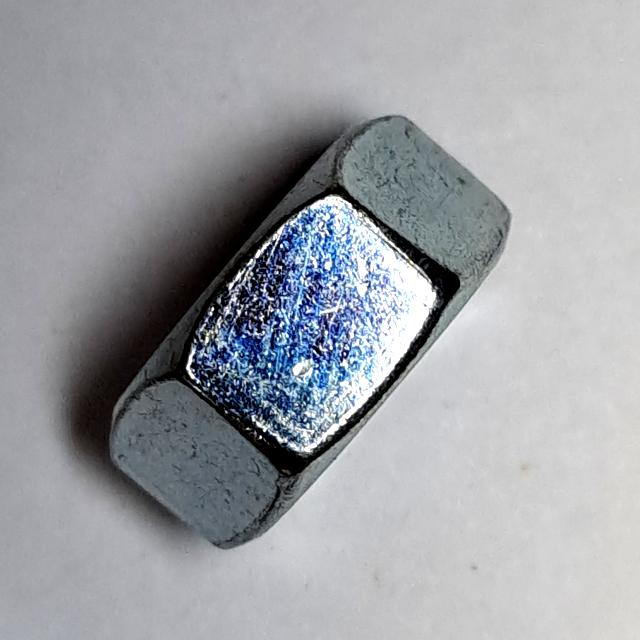Side_Excellent: (102, 102, 522, 570)
